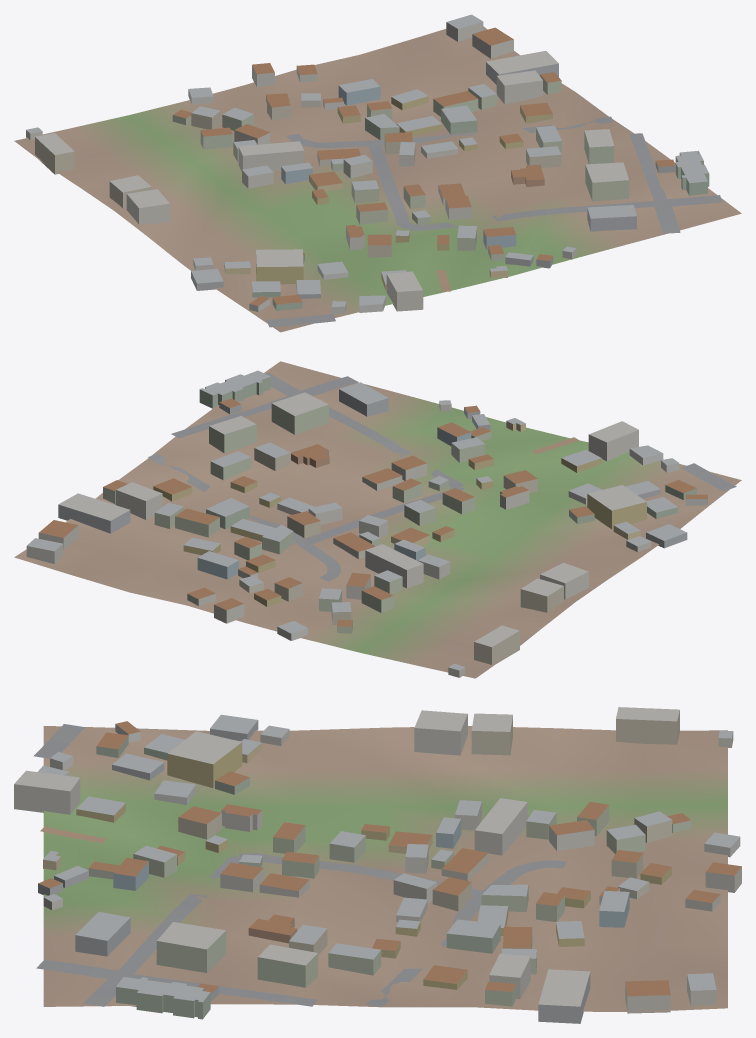
3 renders of one model, top to bottom at view 1: azimuth 30°, elevation 25°; view 2: azimuth 150°, elevation 25°; view 3: azimuth 270°, elevation 25°, orthographic. The views are drawn at different scales.
Parts seen in each view (by area): view 1: Lo; view 2: Lo; view 3: Lo.
Part boxes in pixels (x1,y1,x2,y2): Lo: (14,14,741,332); Lo: (14,361,741,678); Lo: (14,707,741,1023).
Bounding box in the file's own units: 274 × 16.99 × 272.
